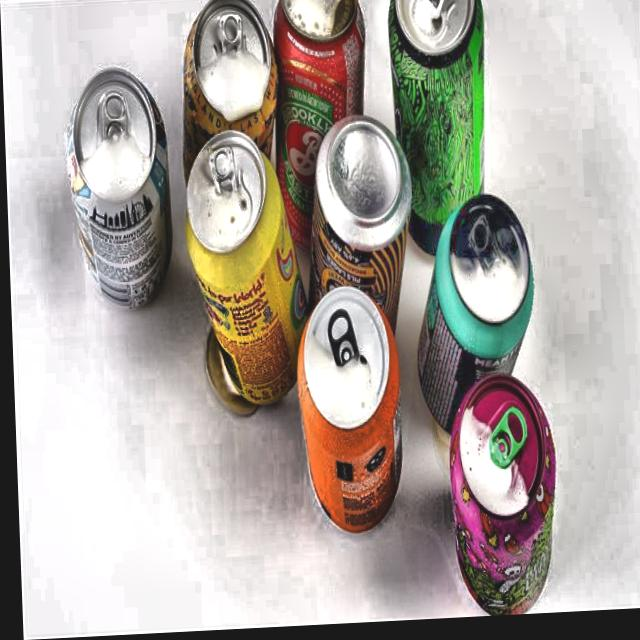can: (175, 120, 314, 423), (405, 189, 544, 471), (438, 368, 563, 623), (59, 56, 177, 324), (289, 283, 410, 543), (382, 0, 495, 267), (298, 108, 416, 359), (266, 0, 373, 270), (173, 0, 284, 209)
